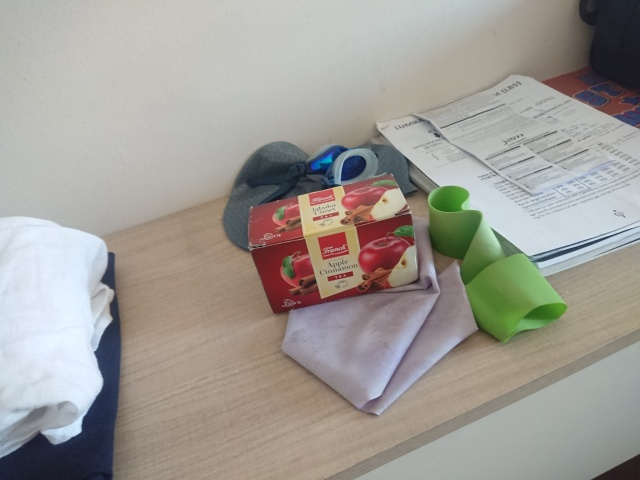Franck Apple Cinnamon Tea 60g: (245, 170, 422, 315)
